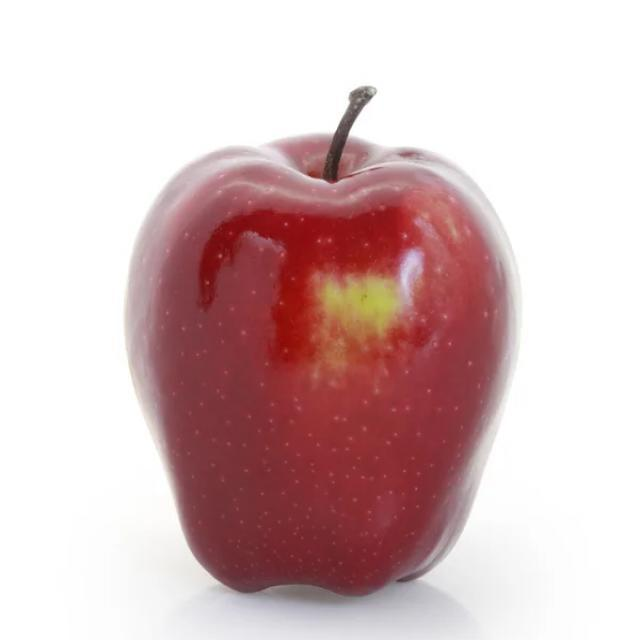Apple: (118, 80, 522, 598)
